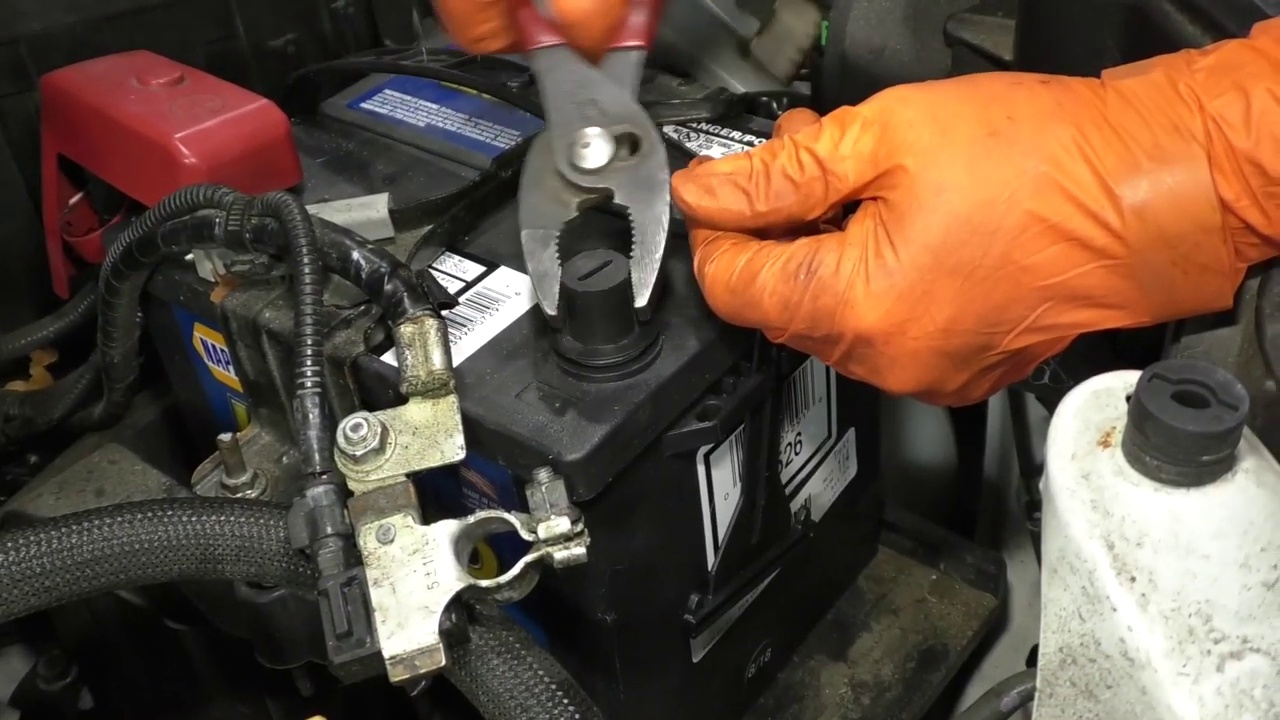battery: (135, 31, 856, 466)
pos_connected: (35, 38, 306, 309)
